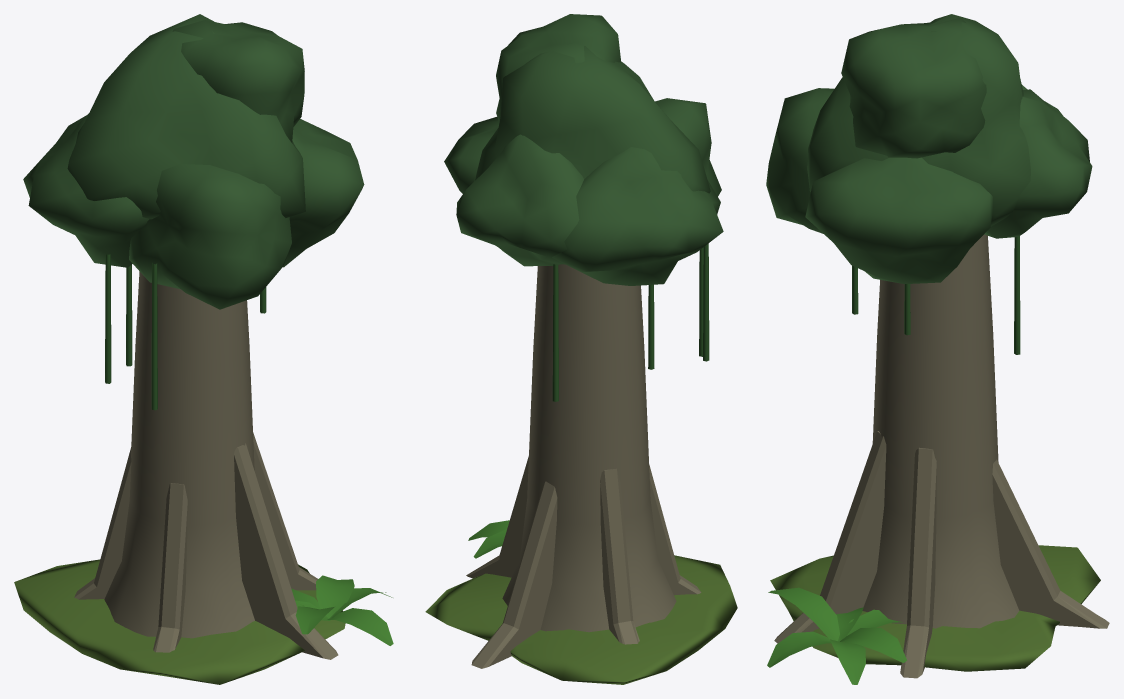
File: jungle-tree.glb
3 renders of one model, left to right at view 1: azimuth 30°, elevation 25°; view 2: azimuth 150°, elevation 25°; view 3: azimuth 270°, elevation 25°, orthographic. The views are drawn at different scales.
Visible parts, largest first — view 1: foliage-jungle, jungle-bark, moss, leaf, leaf-dark; view 2: foliage-jungle, jungle-bark, moss, leaf-dark, leaf; view 3: foliage-jungle, jungle-bark, moss, leaf, leaf-dark.
Part boxes in pixels (bbox=[...]): foliage-jungle: bbox=[23, 14, 364, 309]; jungle-bark: bbox=[74, 271, 338, 659]; moss: bbox=[14, 559, 345, 684]; leaf: bbox=[291, 575, 393, 645]; leaf-dark: bbox=[105, 254, 266, 410]; foliage-jungle: bbox=[444, 14, 723, 285]; jungle-bark: bbox=[466, 264, 701, 668]; moss: bbox=[425, 555, 737, 684]; leaf-dark: bbox=[552, 243, 709, 401]; leaf: bbox=[468, 520, 509, 558]; foliage-jungle: bbox=[766, 14, 1092, 283]; jungle-bark: bbox=[774, 234, 1109, 678]; moss: bbox=[770, 545, 1100, 671]; leaf: bbox=[767, 587, 906, 684]; leaf-dark: bbox=[852, 236, 1020, 354].
Bounding box in the file's own units: 2.64 × 4.84 × 2.45.
